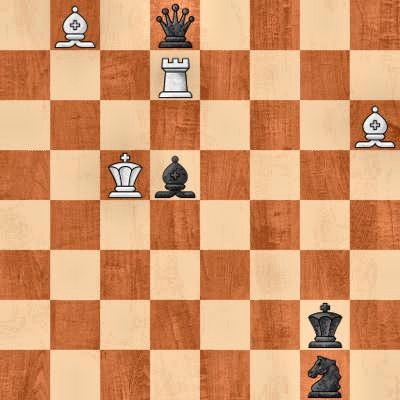black-bishop: (150, 150, 200, 200)
black-king: (300, 300, 350, 350)
black-knight: (300, 350, 350, 400)
black-queen: (150, 0, 200, 50)
white-bishop: (50, 0, 100, 50), (350, 100, 400, 150)
white-king: (100, 150, 150, 200)
white-rook: (150, 50, 200, 100)
